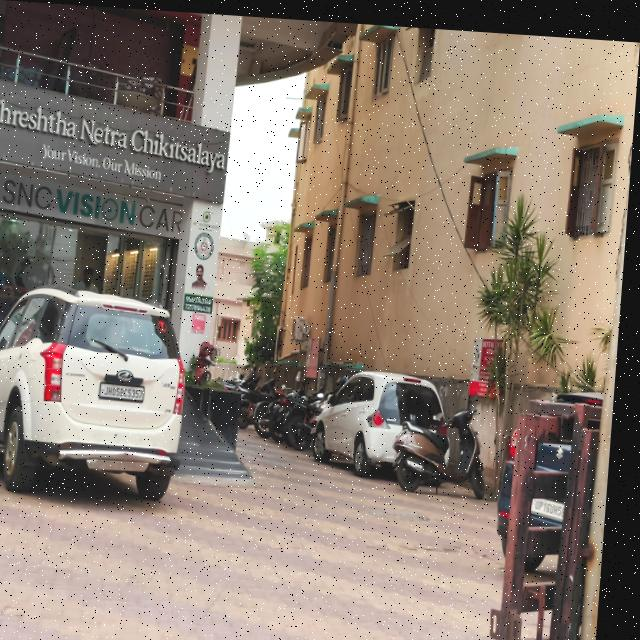bike: (395, 385, 500, 494)
car: (0, 268, 208, 522), (316, 359, 453, 479)
